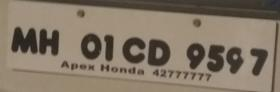0: (78, 31, 102, 60)
1: (101, 33, 117, 62)
5: (206, 44, 227, 73)
7: (249, 47, 269, 78)
9: (185, 41, 207, 70), (226, 45, 247, 73)
C: (120, 35, 147, 64)
D: (146, 37, 172, 67)
H: (38, 25, 61, 57)
M: (9, 21, 39, 55)
